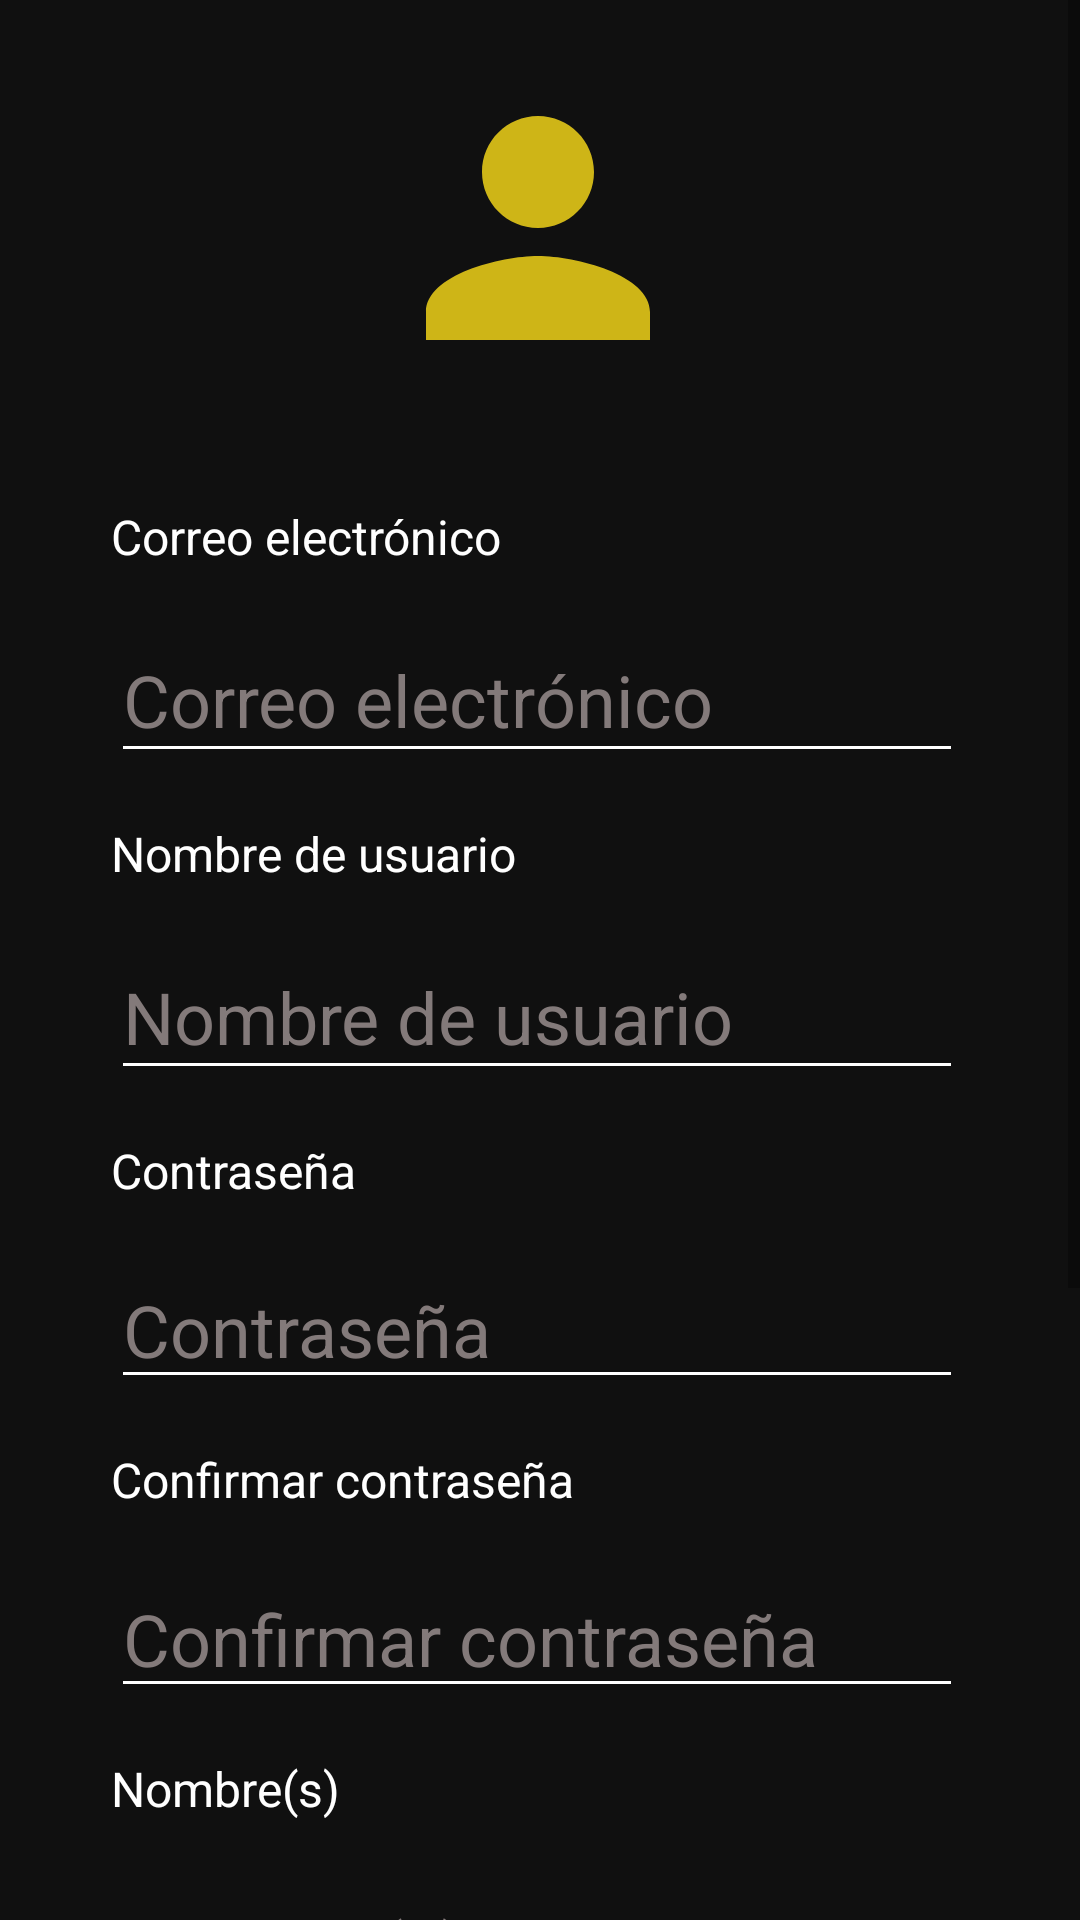

Locate icon controls on the screen. Image size 1080×1920, boxes as (x1,y1,x2,y2).
person: (426,116,650,340)
